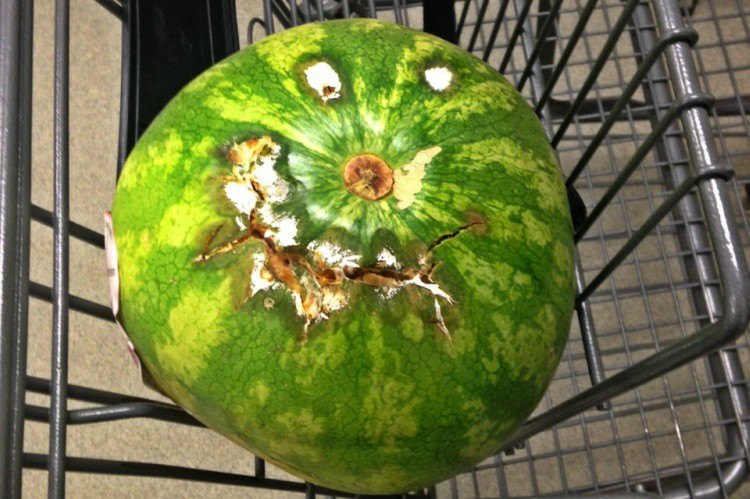rotten: (209, 137, 480, 335), (298, 58, 348, 106), (419, 59, 461, 101)
watermelon: (111, 19, 575, 495)
